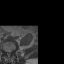CCS_normal: (8, 51, 9, 58)
LFS_severe_stenosis: (11, 50, 12, 56)
LLS_stenosis: (9, 51, 11, 57)
RFS_severe_stenosis: (5, 50, 6, 55)
RLS_normal: (6, 51, 8, 57)
